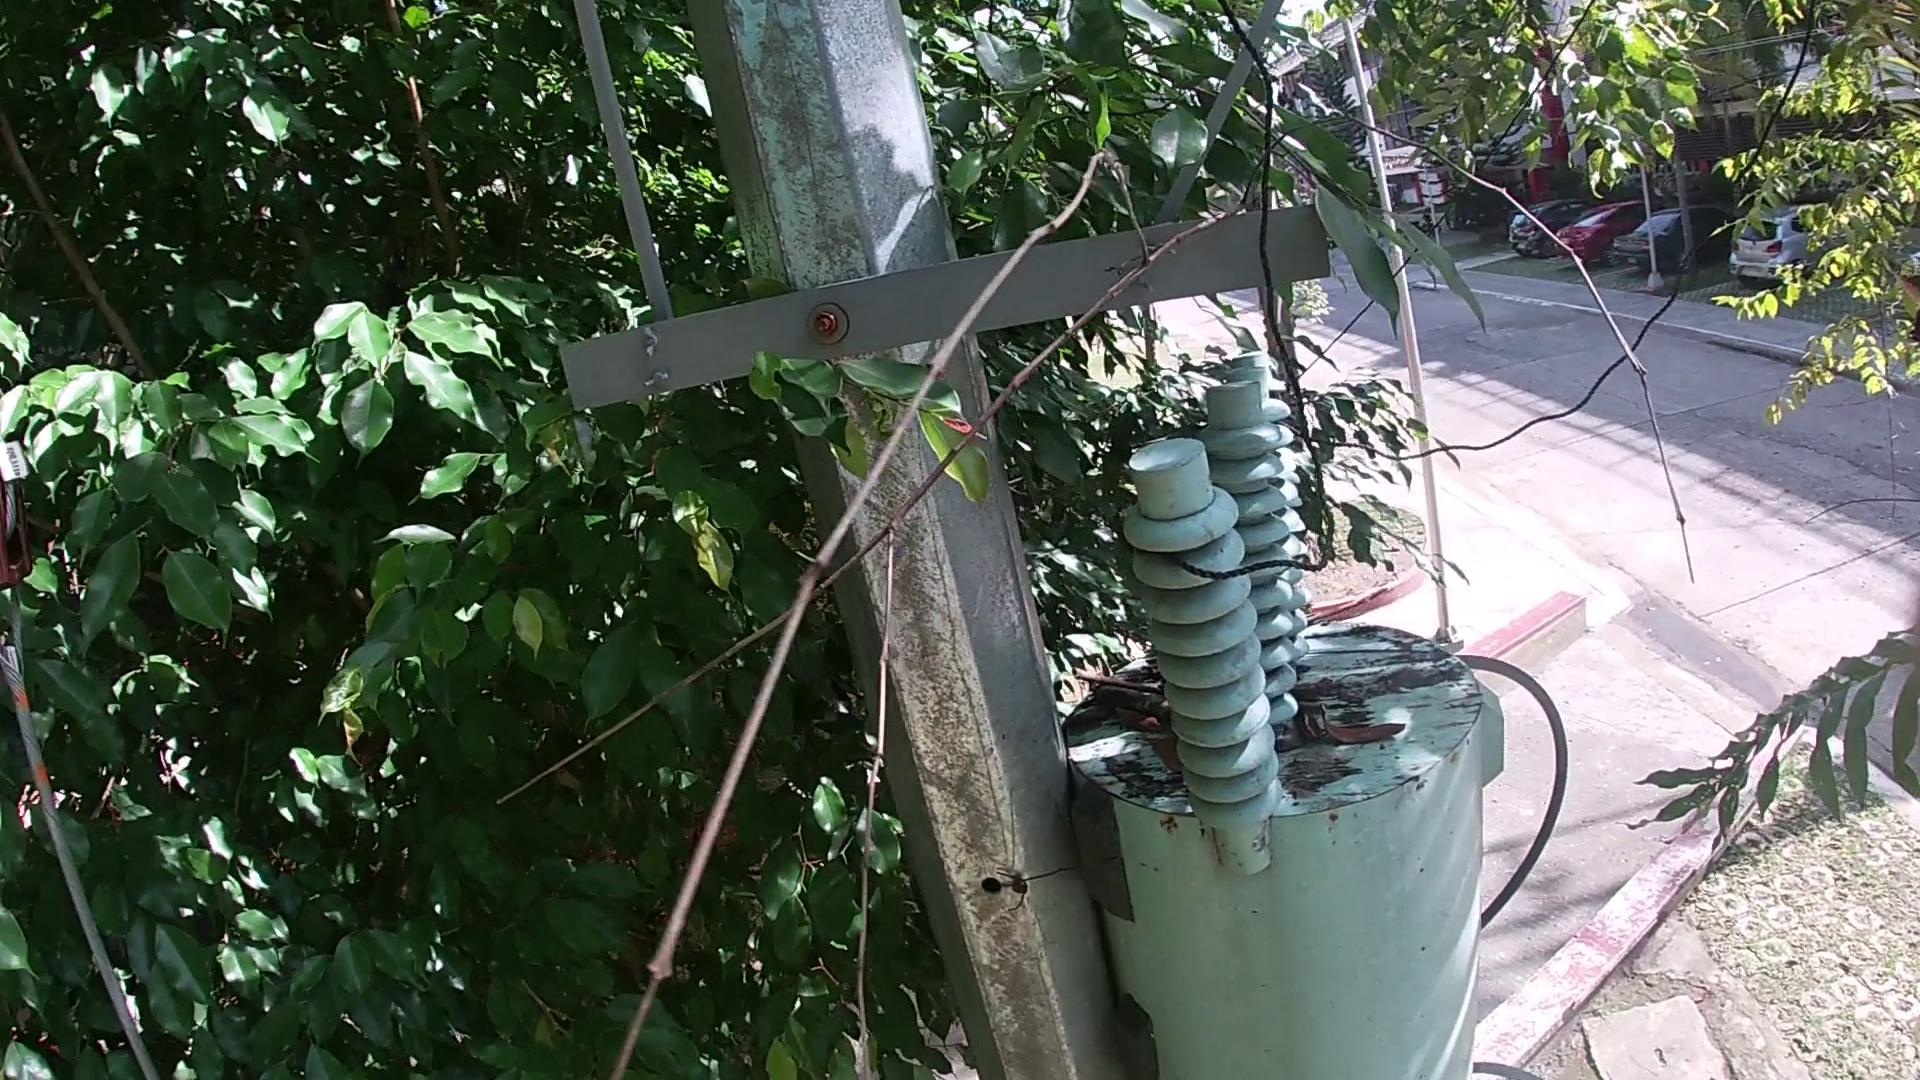leaf: (1313, 705, 1412, 744), (1141, 731, 1185, 775), (1106, 704, 1164, 738)
tree branch: (481, 87, 1708, 1079), (1065, 665, 1174, 719), (1298, 583, 1389, 632)
